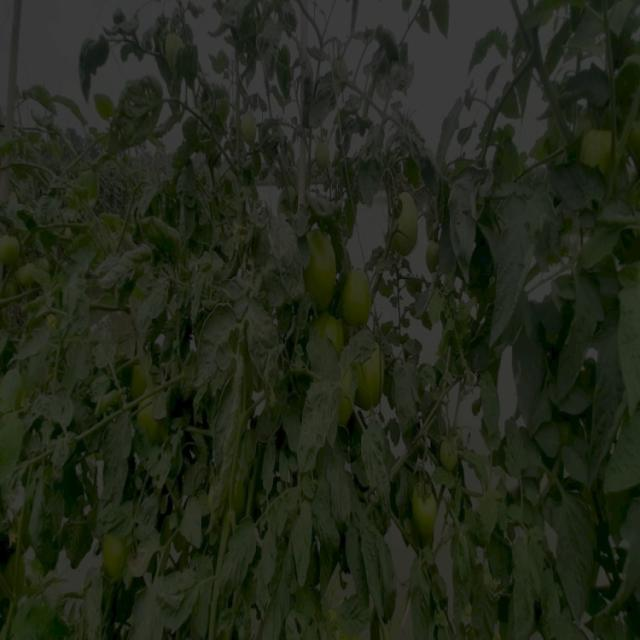tomato: (130, 358, 168, 431), (301, 233, 334, 311), (359, 338, 391, 409), (579, 125, 623, 175), (406, 477, 440, 533), (344, 271, 377, 318), (389, 193, 416, 250), (105, 534, 129, 573), (315, 316, 341, 351), (234, 100, 255, 141), (12, 264, 43, 290), (228, 485, 249, 521), (341, 363, 353, 423), (1, 235, 24, 263), (316, 139, 334, 173), (164, 32, 183, 63), (441, 438, 461, 467), (428, 241, 442, 268), (633, 119, 640, 154)
